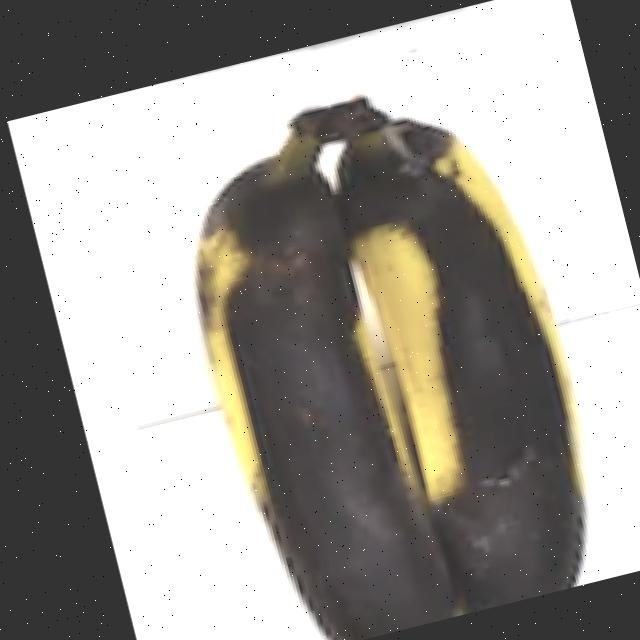Rotten: (117, 84, 463, 640), (322, 50, 626, 617)
